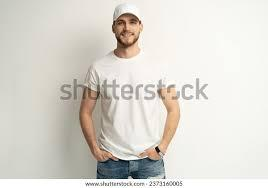cap: (107, 2, 149, 28)
